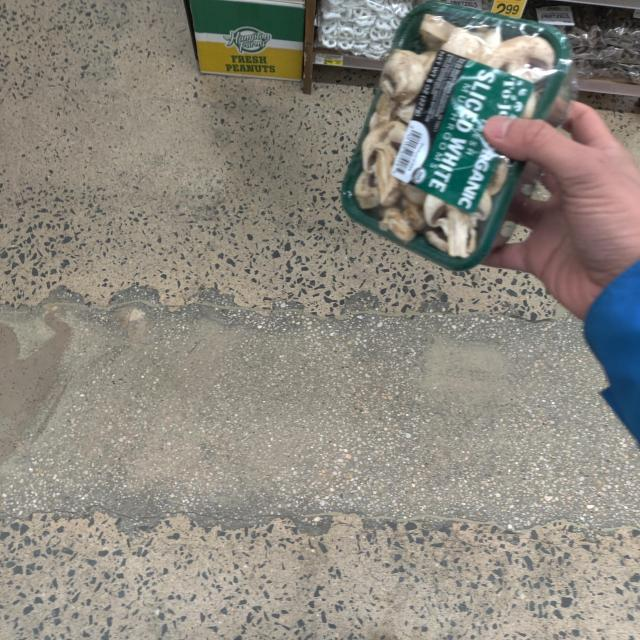Mushrooms: (342, 13, 576, 269)
